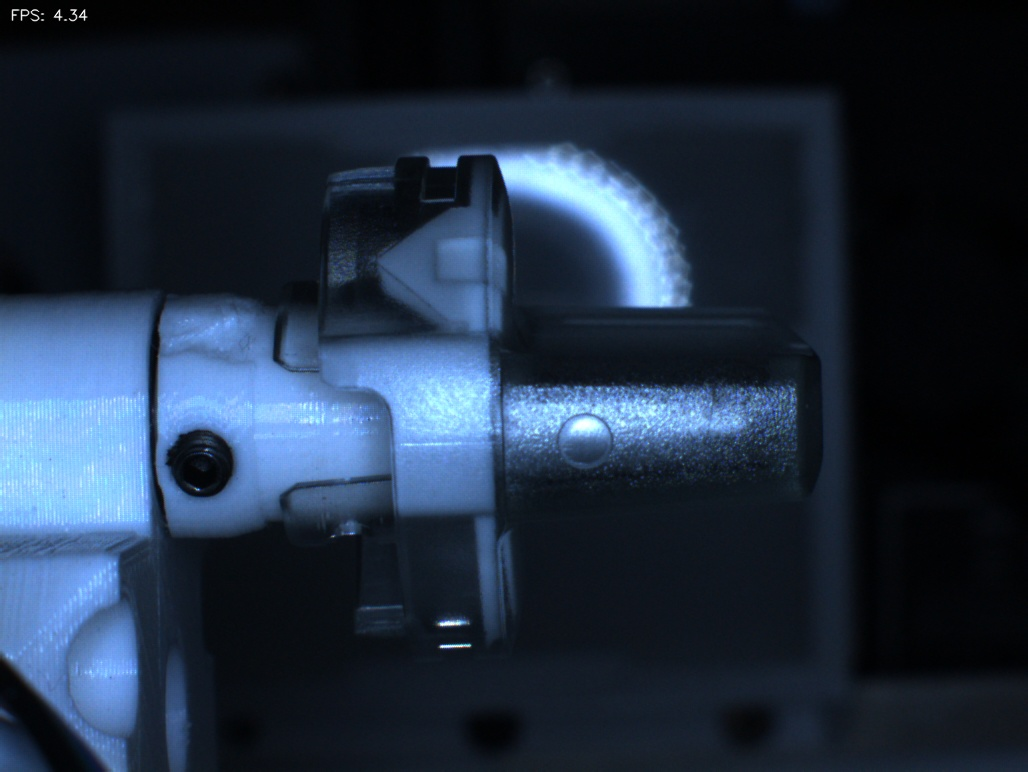DentOk: (345, 225, 416, 320)
